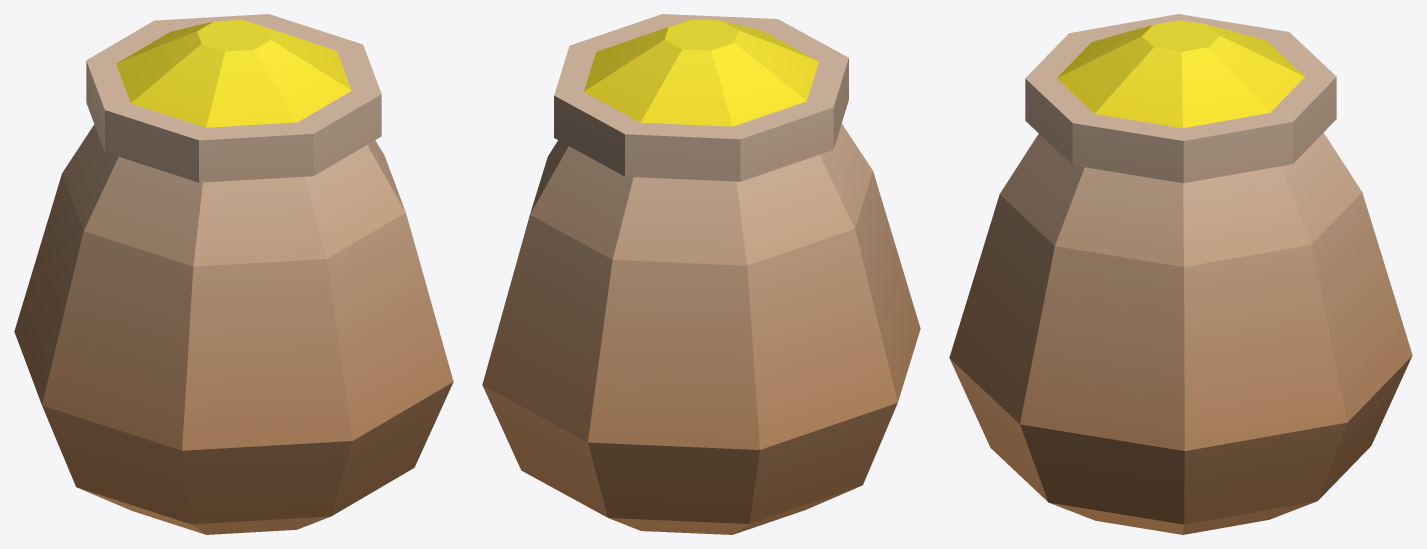
The model's file is grain bag.fbx.
3 views of the same model, side by side, from view 1: azimuth 30°, elevation 25°; view 2: azimuth 150°, elevation 25°; view 3: azimuth 270°, elevation 25° (orthographic).
Parts seen in each view (by area): view 1: grain_bag; view 2: grain_bag; view 3: grain_bag.
Part boxes in pixels (x1,y1,x2,y2): grain_bag: (14, 14, 453, 534); grain_bag: (482, 14, 920, 534); grain_bag: (949, 14, 1412, 534).
Size of the model in its own units: 159 by 176 by 164.
Materials: 1 (1 with a texture image).
